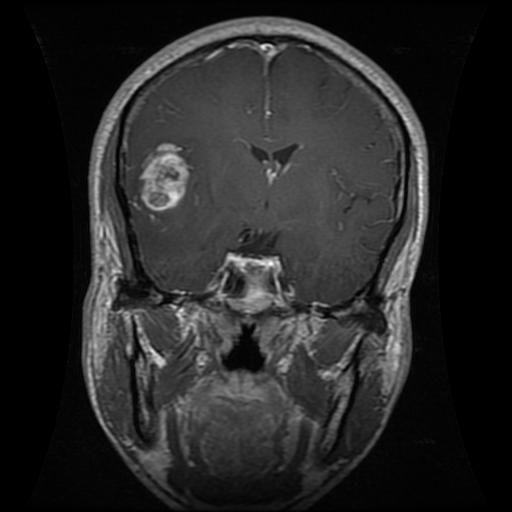Gliomia_tumour: (130, 138, 194, 220)
